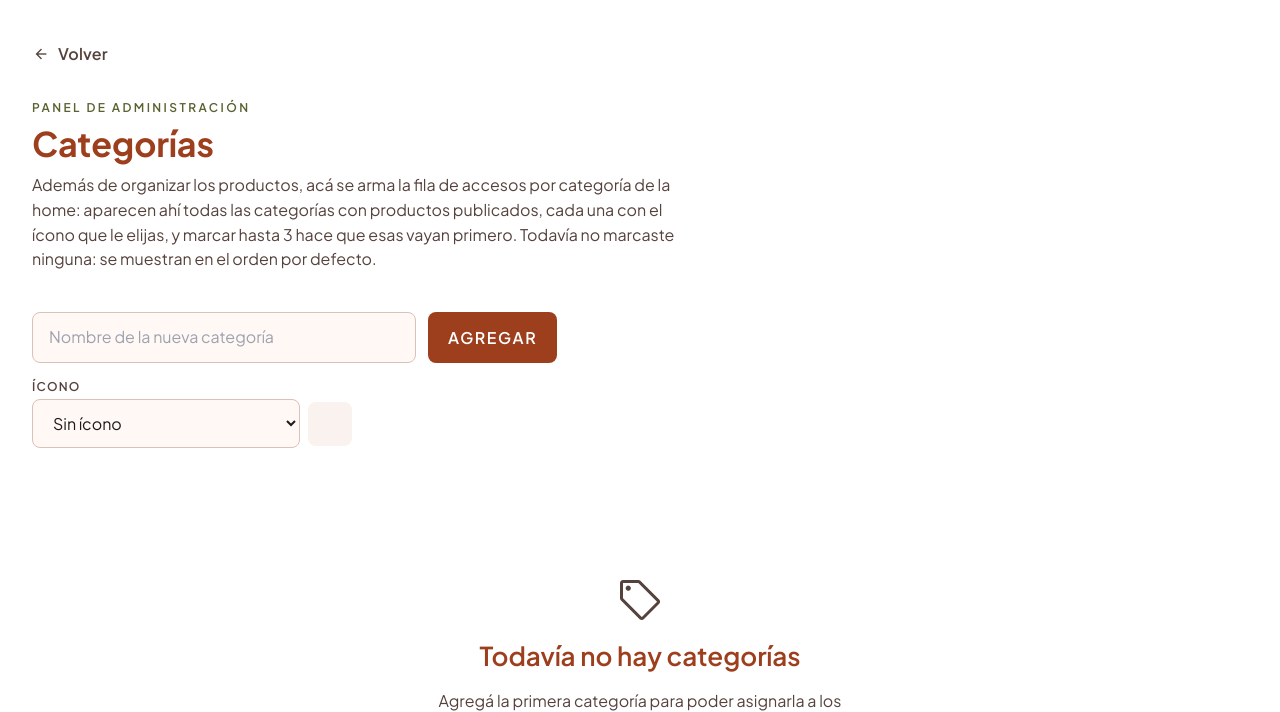
Test: AdminCategorias — fallos de red › si la mutación se aplicó pero la recarga falla, NO muestra el error de la mutación
expect the heading "Todavía no hay categorías" is shown: met, box top-left (479, 640), bottom-right (801, 673)
Type "Deco" into the field with placeholder "Nombre de la nueva categoría" at (224, 338), box top-left (32, 312), bottom-right (416, 363)
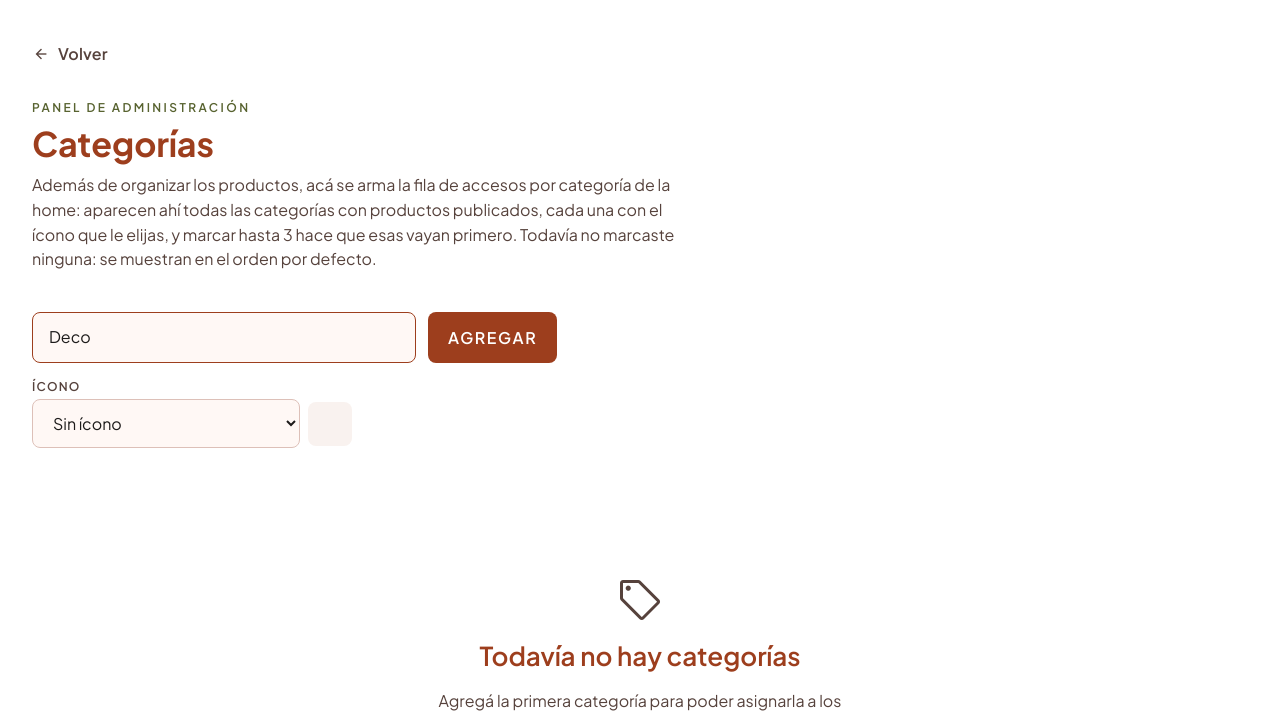
Click the button "Agregar" at (493, 338), box top-left (428, 312), bottom-right (557, 363)
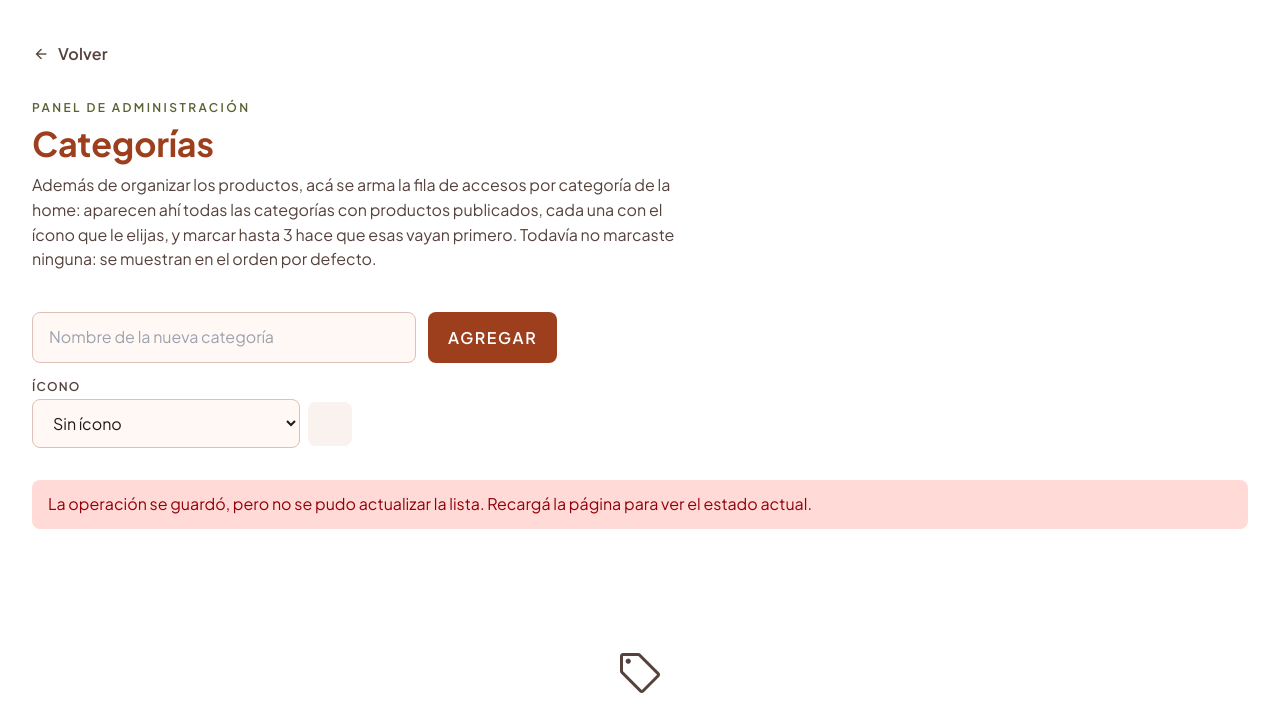
expect the text "se guardó, pero no se pudo actualizar la lista" is shown: met, box top-left (48, 493), bottom-right (812, 514)
